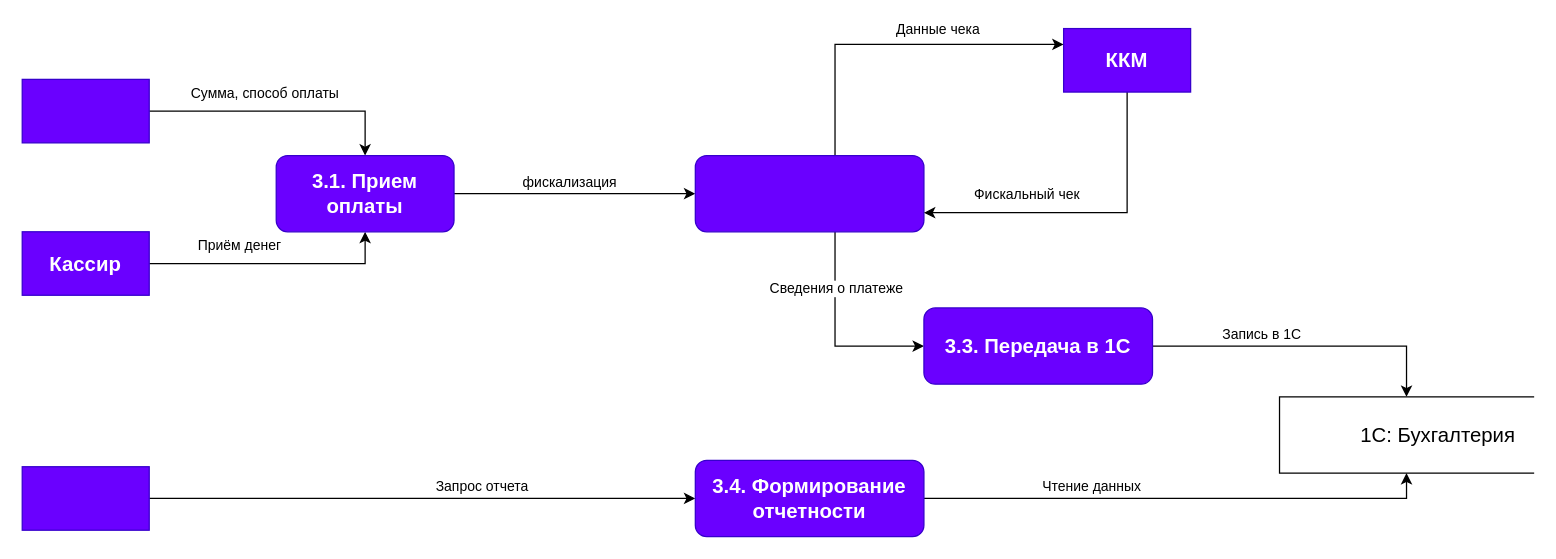
Some shapes in this 1556 by 559 pixel diagram are drawn without their labels. The shapes that lost their labels are listed below. From the top down, each one's centre as x and y in pixels, then its label:
[85,110]: Паци ент
[809,193]: 3.2. Фискализация чека
[85,497]: Бухгалтер
